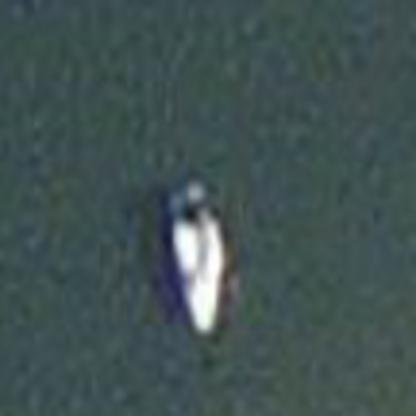ship: (137, 172, 255, 341)
